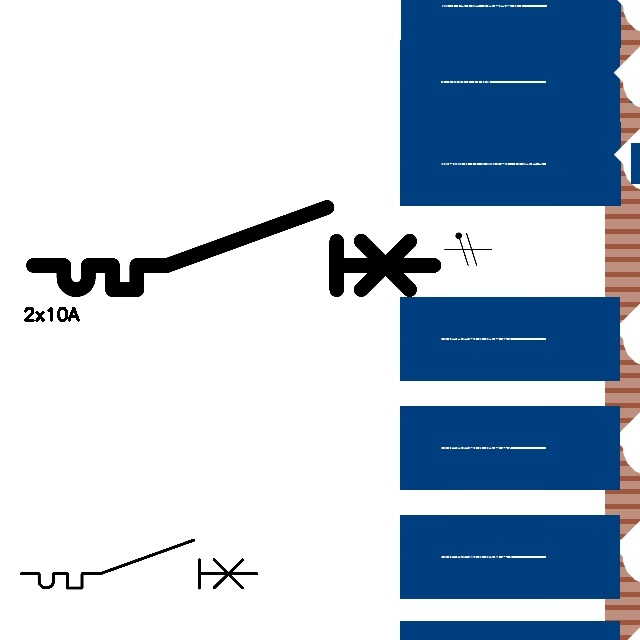interruptor_termomagnetico: (23, 197, 444, 300), (15, 534, 263, 594)
